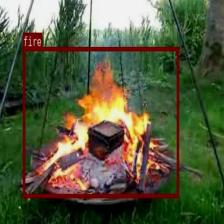fire: (22, 46, 179, 198)
